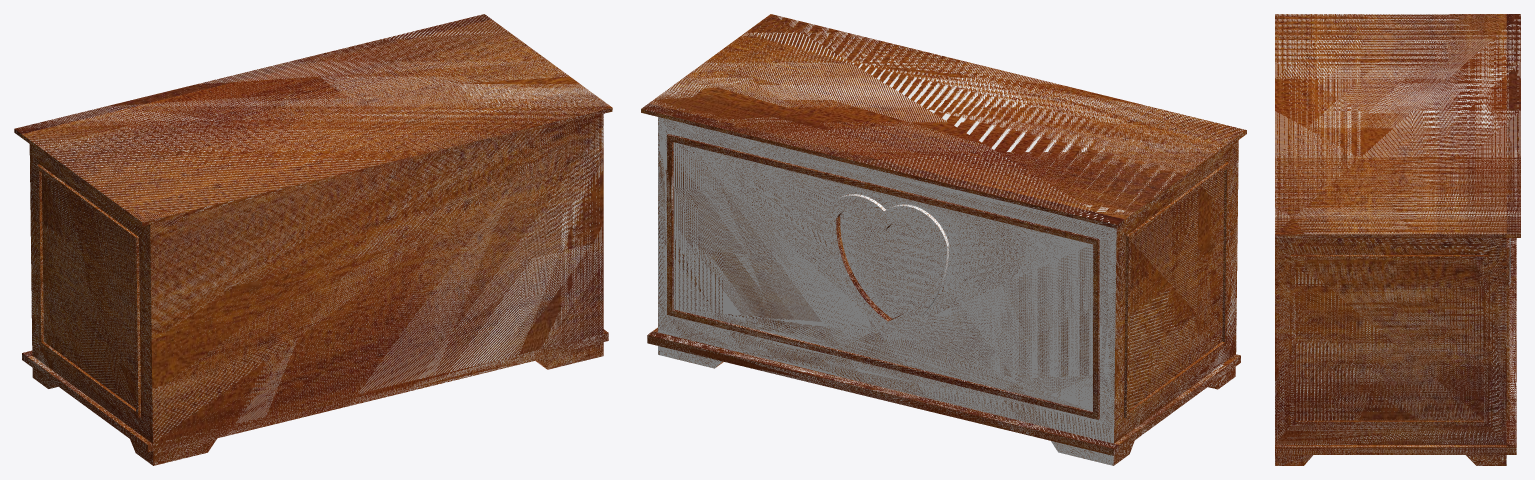
The picture shows the model from 3 angles, left to right: view 1: azimuth 30°, elevation 25°; view 2: azimuth 150°, elevation 25°; view 3: azimuth 270°, elevation 25°; orthographic projection. The views are drawn at different scales.
Visible parts, largest first — view 1: mesh1_mesh1-geometry; view 2: mesh1_mesh1-geometry; view 3: mesh1_mesh1-geometry.
Boxes of the visible parts, bbox=[...] form: mesh1_mesh1-geometry: bbox=[14, 14, 612, 465]; mesh1_mesh1-geometry: bbox=[641, 14, 1246, 465]; mesh1_mesh1-geometry: bbox=[1275, 14, 1520, 465].
Size of the model in its own units: 0.8241 by 0.412 by 0.3888.
